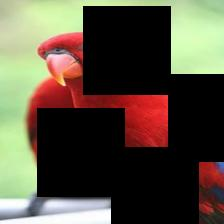red: (36, 38, 224, 223)
